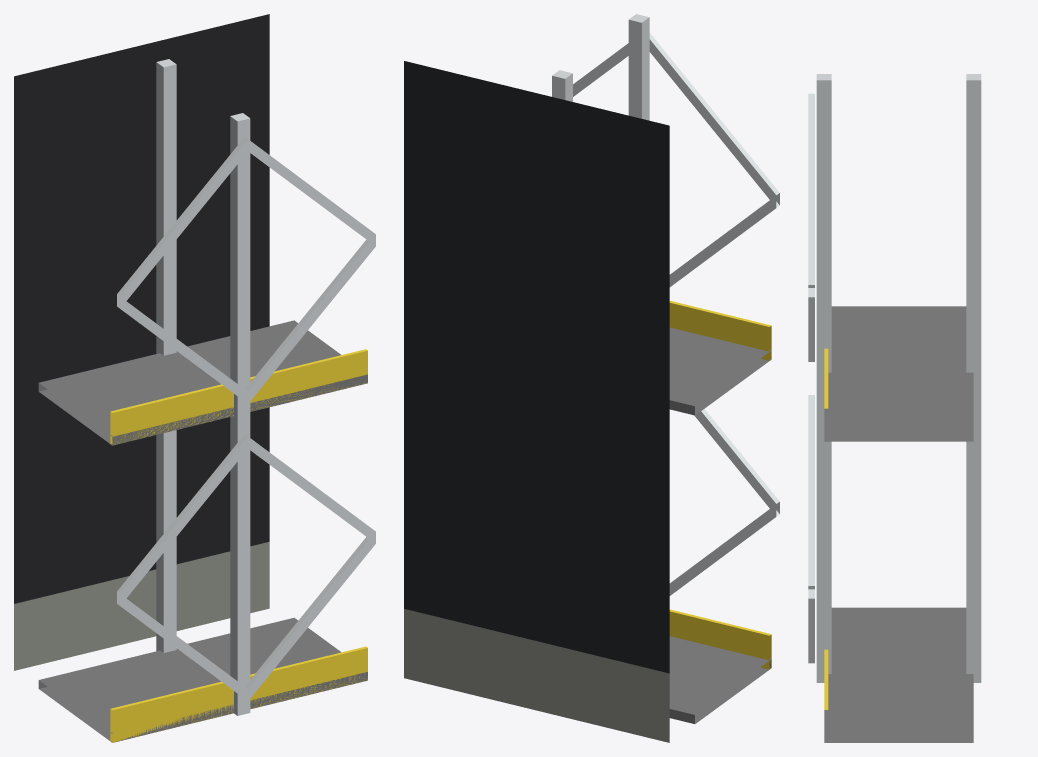
File: scaffold-wall.fbx
3 renders of one model, left to right at view 1: azimuth 30°, elevation 25°; view 2: azimuth 150°, elevation 25°; view 3: azimuth 270°, elevation 25°, orthographic. The views are drawn at different scales.
Visible parts, largest first — view 1: common/scaffold-wall; view 2: common/scaffold-wall; view 3: common/scaffold-wall.
Part boxes in pixels (x1,y1,x2,y2): common/scaffold-wall: (14,14,375,742); common/scaffold-wall: (404,14,779,742); common/scaffold-wall: (808,74,981,742).
Size of the model in its own units: 1.8 by 4 by 1.29.
